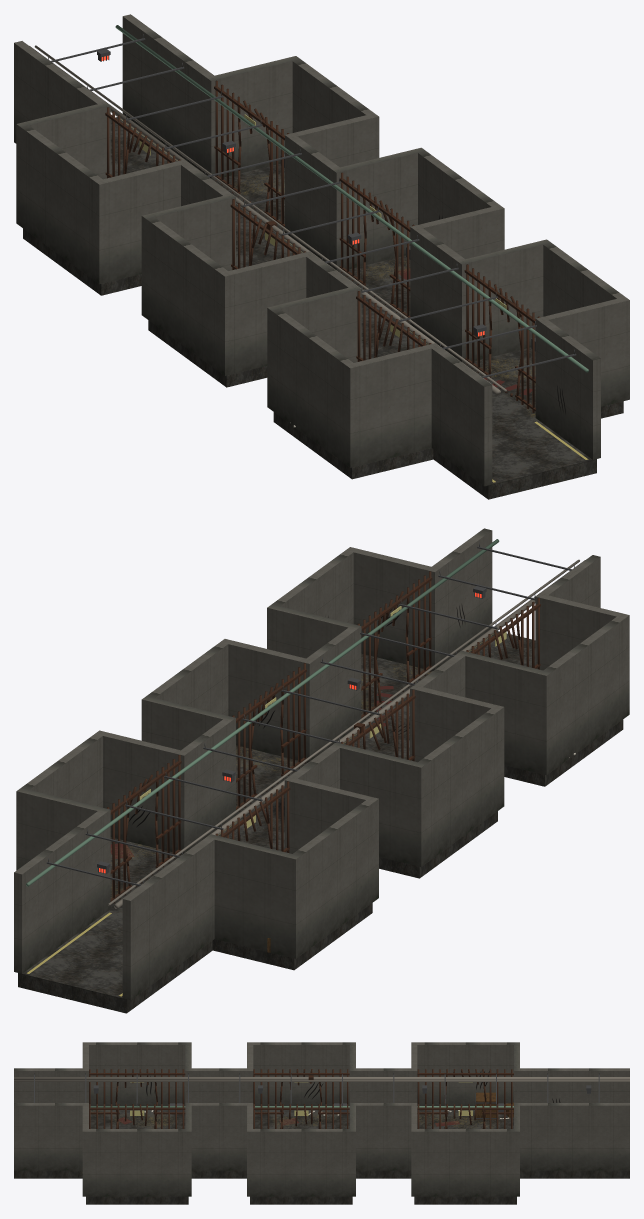
Rendered from corridor.glb.
3 renders of one model, top to bottom at view 1: azimuth 30°, elevation 25°; view 2: azimuth 150°, elevation 25°; view 3: azimuth 270°, elevation 25°, orthographic. The views are drawn at different scales.
Visible parts, largest first — view 1: Room_corridor; view 2: Room_corridor; view 3: Room_corridor.
Part boxes in pixels (x1,y1,x2,y2): Room_corridor: (14, 14, 629, 499); Room_corridor: (14, 528, 629, 1013); Room_corridor: (14, 1042, 629, 1204).
Bounding box in the file's own units: 11.04 × 4.02 × 30.
Materials: 16 (7 with a texture image).
